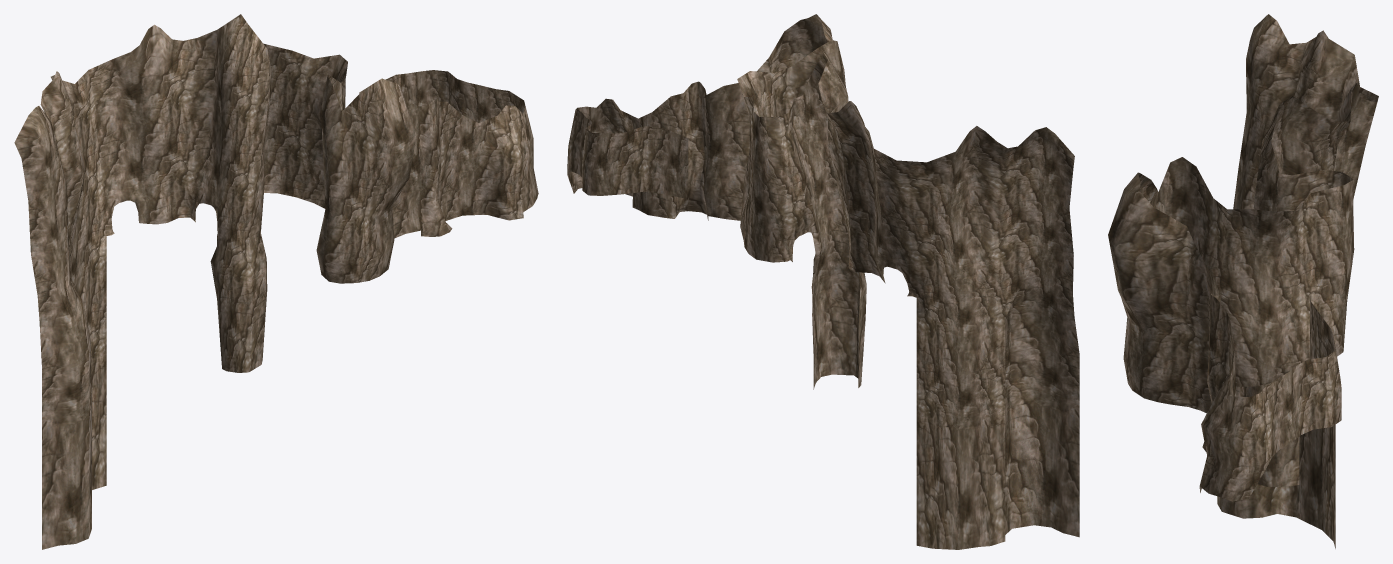
File: OVERHILL_A_01_OBJECT118.fbx
3 views of the same model, side by side, from view 1: azimuth 30°, elevation 25°; view 2: azimuth 150°, elevation 25°; view 3: azimuth 270°, elevation 25° (orthographic). The views are drawn at different scales.
Visible parts, largest first — view 1: OVERHILL_A_01_OBJECT118; view 2: OVERHILL_A_01_OBJECT118; view 3: OVERHILL_A_01_OBJECT118.
Part boxes in pixels (left/top/right/bottom): OVERHILL_A_01_OBJECT118: left=14, top=14, right=538, bottom=549; OVERHILL_A_01_OBJECT118: left=567, top=14, right=1079, bottom=549; OVERHILL_A_01_OBJECT118: left=1108, top=14, right=1378, bottom=548.
Size of the model in its own units: 460656 by 393289 by 186536.
Materials: 1 (1 with a texture image).
